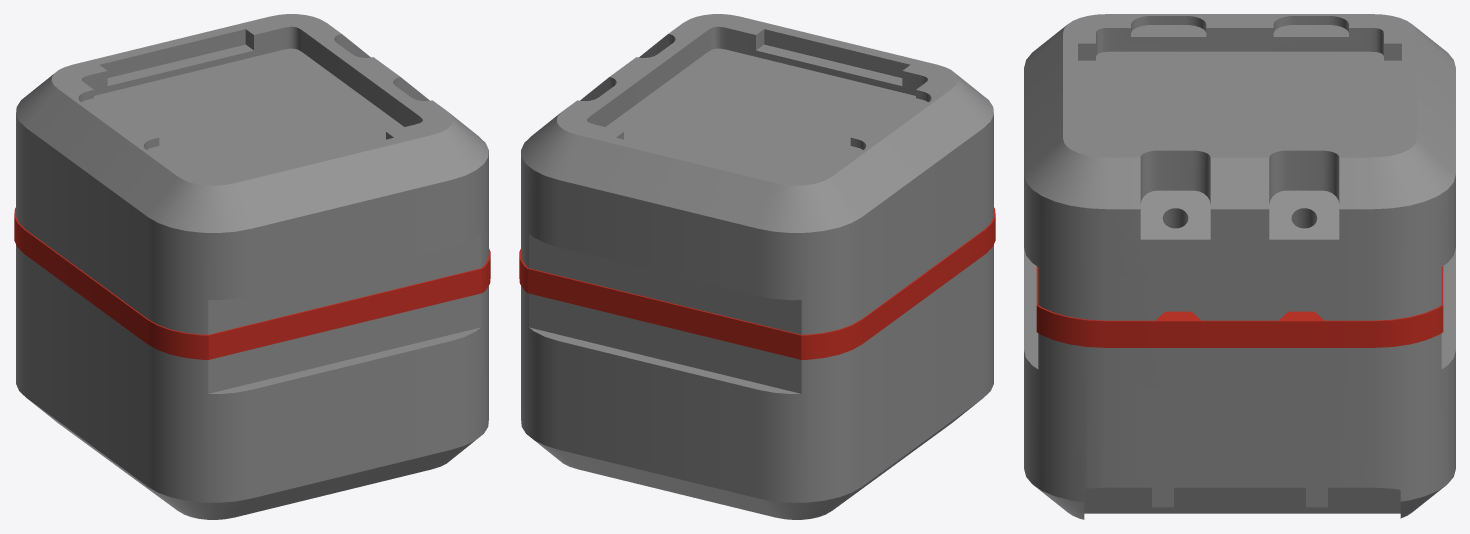
File: Bomb.glb
The picture shows the model from 3 angles, left to right: view 1: azimuth 30°, elevation 25°; view 2: azimuth 150°, elevation 25°; view 3: azimuth 270°, elevation 25°; orthographic projection. The views are drawn at different scales.
Parts seen in each view (by area): view 1: CUBE, Cube.002; view 2: CUBE, Cube.002; view 3: CUBE, Cube.002.
Part boxes in pixels (box(x1,y1,x2,y2)): CUBE: box(16, 14, 488, 519); Cube.002: box(14, 207, 490, 359); CUBE: box(521, 14, 993, 519); Cube.002: box(519, 207, 995, 359); CUBE: box(1024, 14, 1455, 519); Cube.002: box(1036, 266, 1443, 347).
Bounding box in the file's own units: 2.66 × 2.55 × 2.73.
